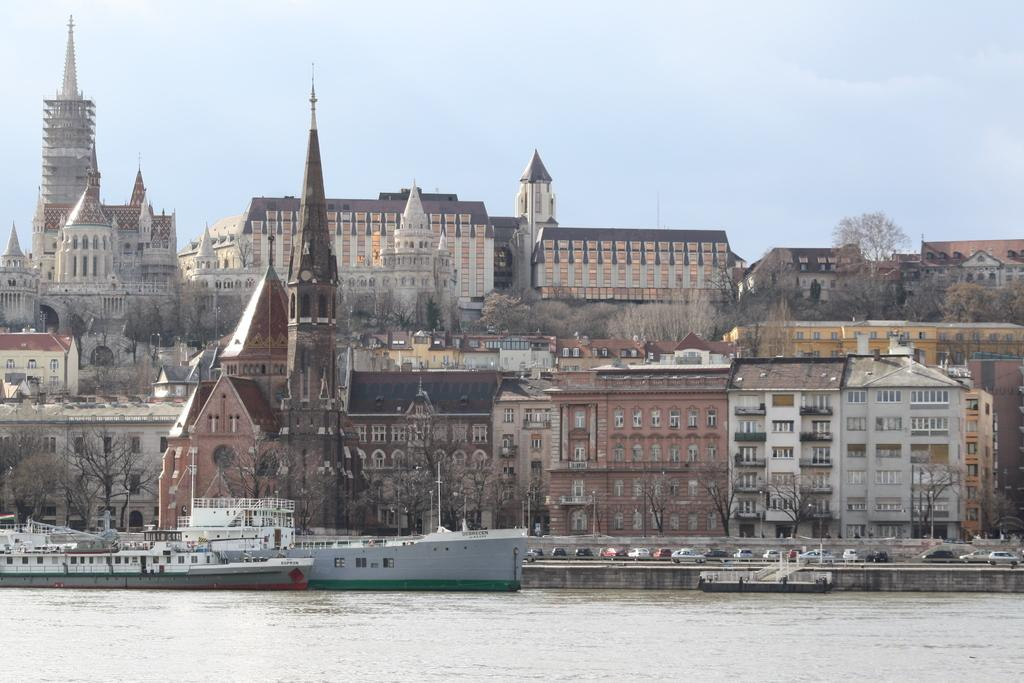PassengerShip: (0, 531, 320, 588)
